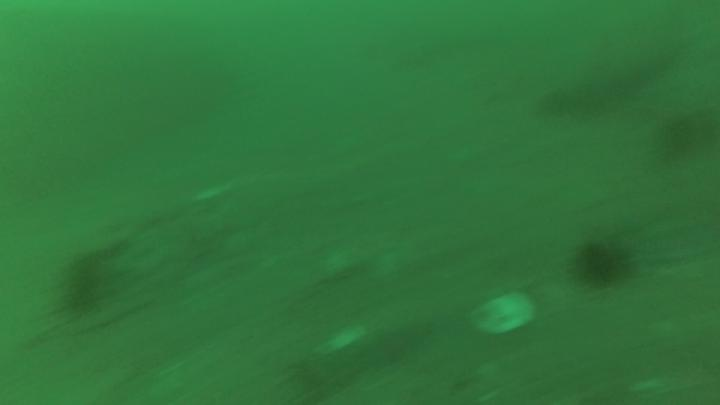echinus: (571, 234, 625, 293), (62, 259, 105, 311)
scallop: (467, 288, 536, 341)
